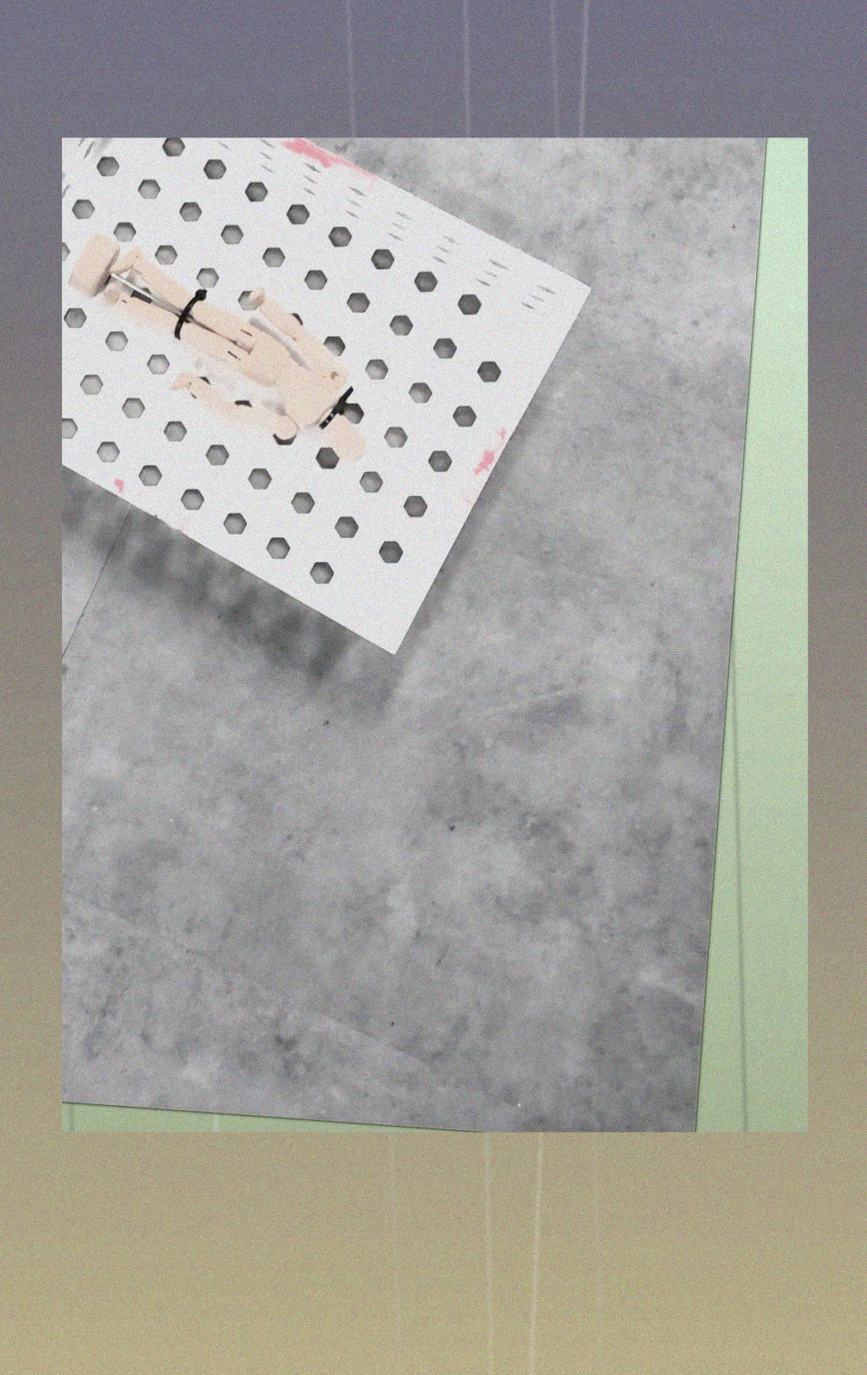basket: (56, 131, 600, 667)
mannequin: (65, 229, 379, 471)
